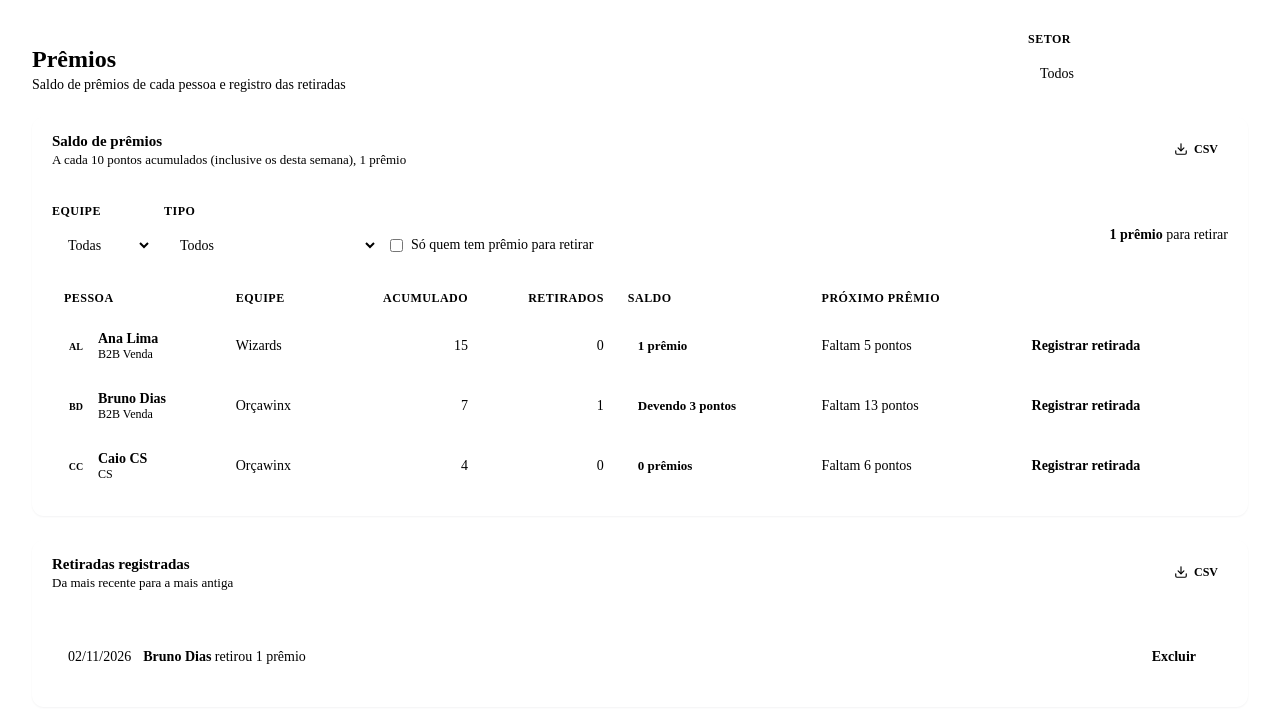
Scenario: PrizesPage › master registra uma retirada dentro do saldo, com a segunda da semana como dia
The image size is (1280, 719).
Expected: the element "Saldo de prêmios" is shown, left=32, top=117, right=1248, bottom=516
Click the button "Registrar retirada" in the row of "Ana Lima" at (1086, 346), box left=1016, top=326, right=1156, bottom=366
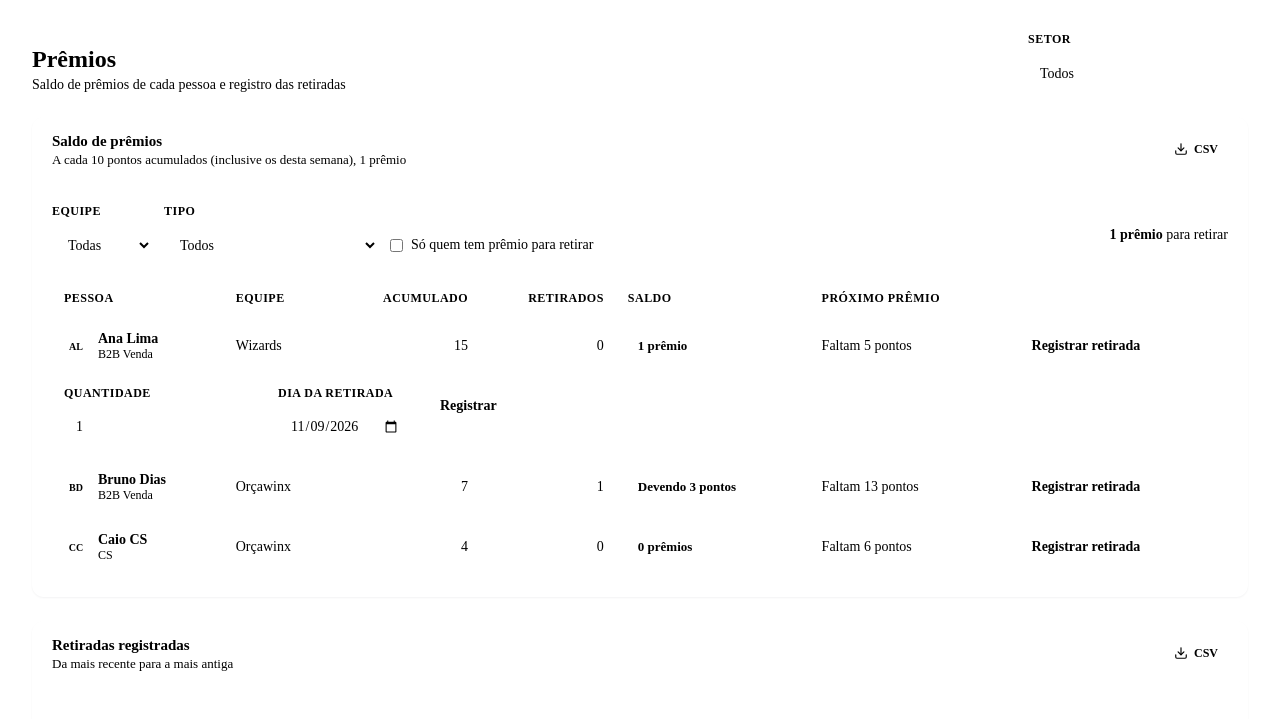
Expected: the date field labelled "Dia da retirada" holds "2026-11-09", left=278, top=407, right=412, bottom=447
Click the button "Registrar" at (468, 406), box left=424, top=386, right=513, bottom=426
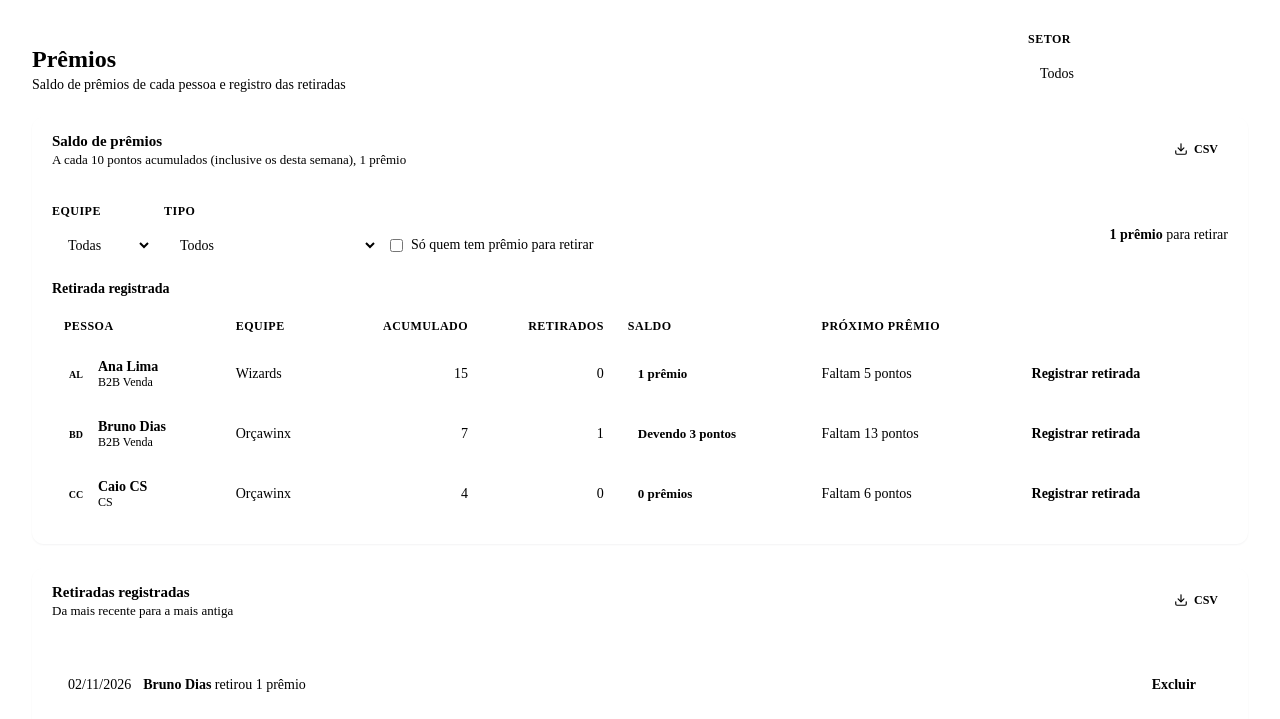
Expected: the text "Retirada registrada" is shown, left=52, top=281, right=170, bottom=296
